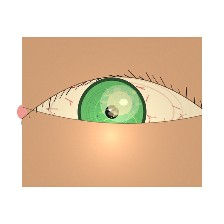corneal_ulcer: (99, 87, 140, 120)
